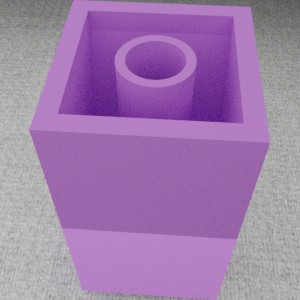3684c: (28, 0, 270, 300)
48729: (111, 65, 171, 153)
